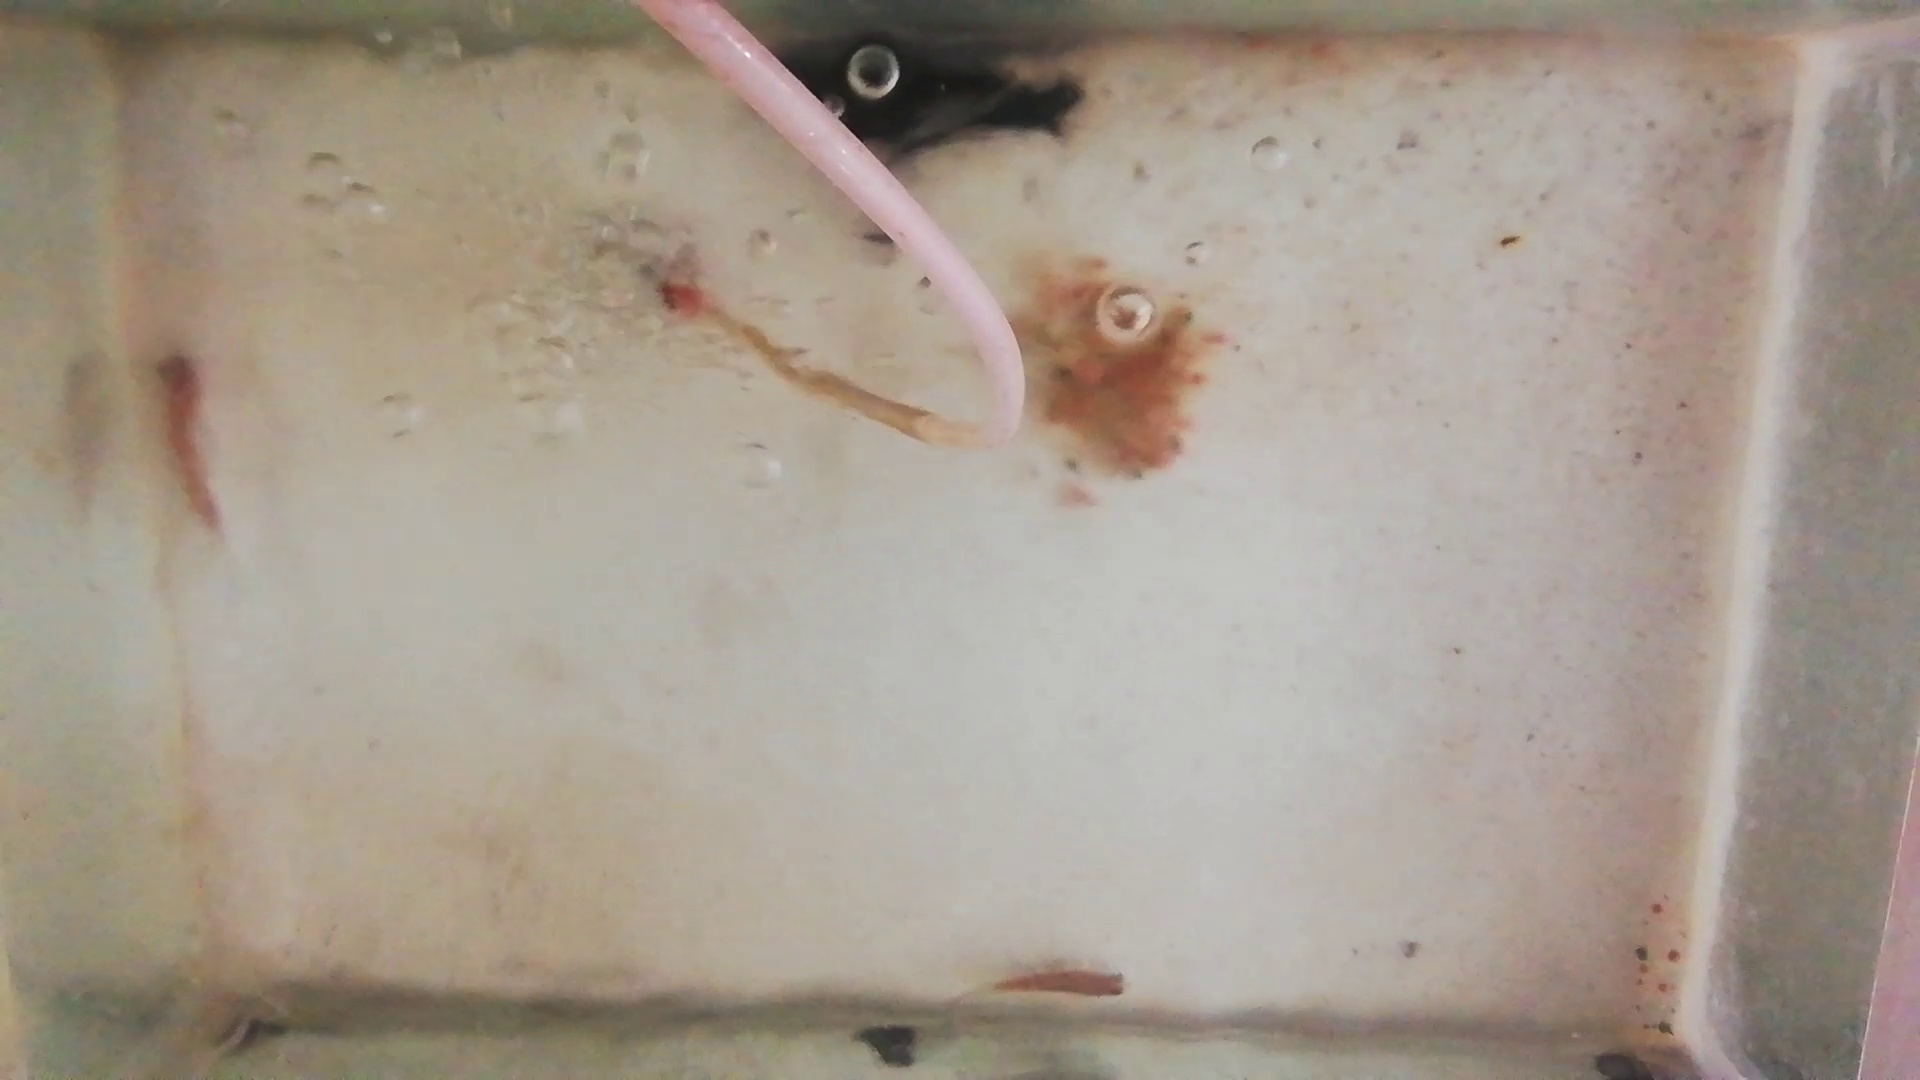fish: (156, 345, 225, 550), (986, 971, 1131, 1001)
